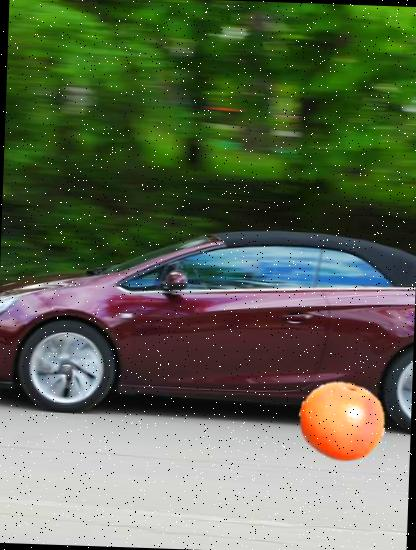Grapefruit: (298, 378, 388, 468)
